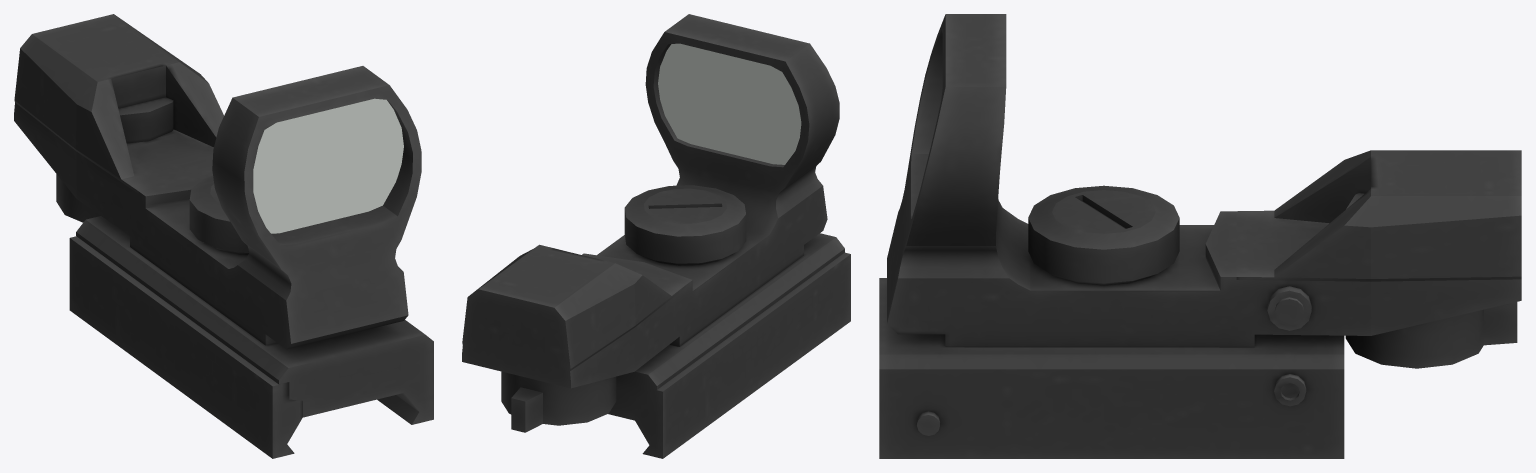
Rendered from red_dot_sight_2.fbx.
The picture shows the model from 3 angles, left to right: view 1: azimuth 30°, elevation 25°; view 2: azimuth 150°, elevation 25°; view 3: azimuth 270°, elevation 25°; orthographic projection. The views are drawn at different scales.
Visible parts, largest first — view 1: scope_low, scope_low.001; view 2: scope_low, scope_low.001; view 3: scope_low.
Part boxes in pixels (bbox=[...]): scope_low: bbox=[14, 14, 433, 458]; scope_low.001: bbox=[253, 98, 403, 233]; scope_low: bbox=[462, 14, 850, 458]; scope_low.001: bbox=[658, 43, 801, 164]; scope_low: bbox=[879, 14, 1521, 458].
Bounding box in the file's own units: 11.7 × 20.07 × 32.16.
